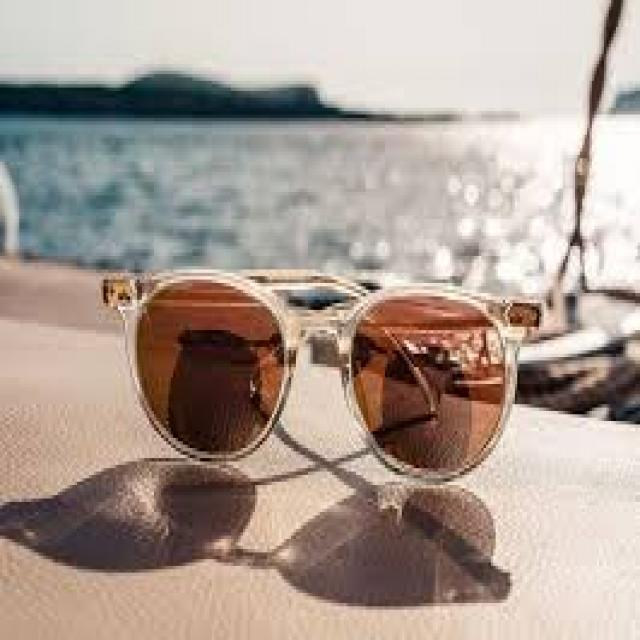suspicious-objects: (86, 248, 536, 490)
